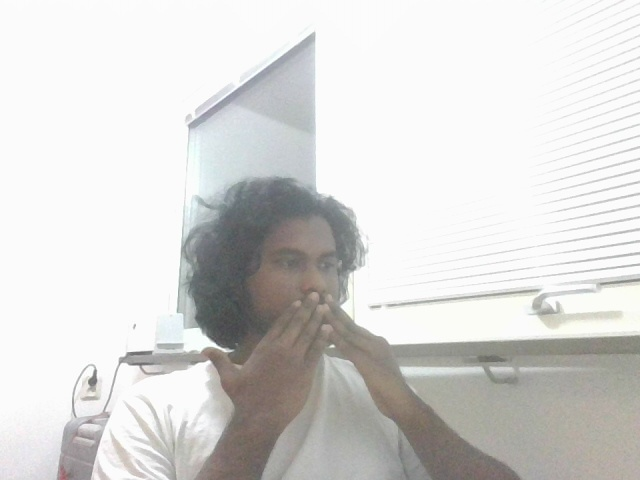Thanks: (204, 289, 455, 427)
